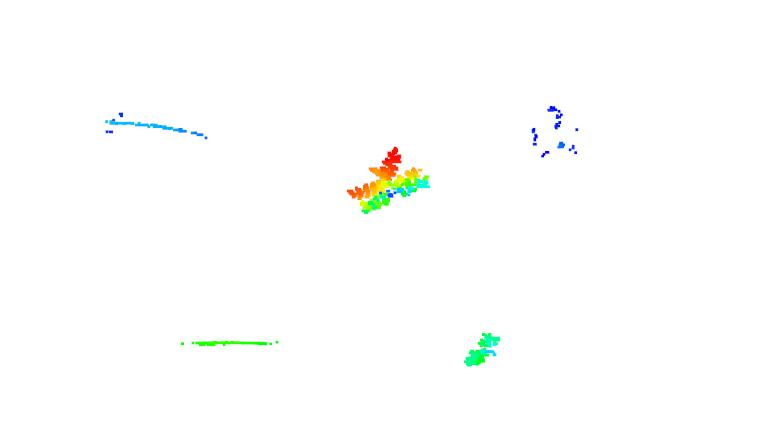chickpea: (345, 143, 434, 217), (459, 331, 505, 370)
